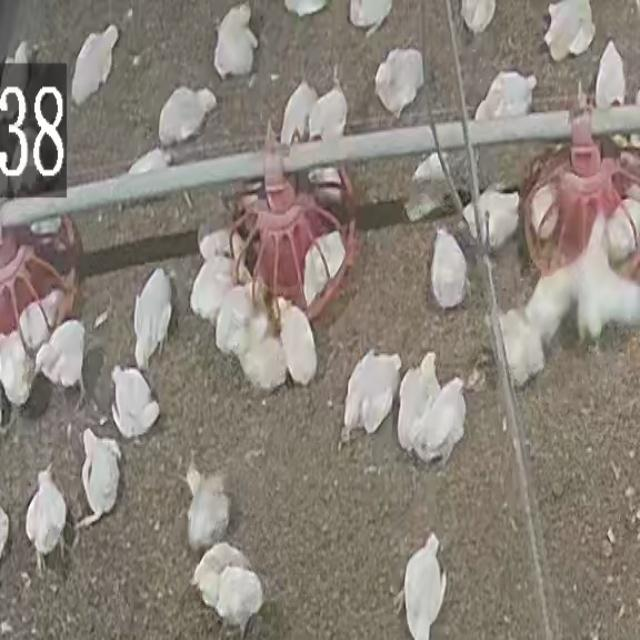chicken: (339, 349, 398, 448), (395, 355, 438, 464), (24, 467, 68, 572), (402, 534, 446, 638), (415, 383, 464, 471), (578, 252, 628, 333), (80, 431, 122, 527), (184, 466, 230, 553), (109, 364, 159, 444), (131, 269, 171, 368), (402, 150, 457, 222), (239, 312, 287, 393), (497, 309, 544, 390), (39, 318, 87, 396), (71, 26, 119, 104), (530, 258, 577, 337), (192, 542, 252, 603), (212, 564, 264, 634), (374, 47, 424, 118), (155, 88, 218, 144), (542, 0, 595, 61), (279, 302, 317, 387), (472, 75, 535, 125), (304, 232, 347, 305), (429, 228, 467, 310), (473, 188, 521, 250), (190, 255, 232, 322), (217, 5, 256, 76), (310, 74, 349, 142), (20, 285, 63, 345), (602, 190, 640, 256), (197, 207, 248, 256), (0, 332, 31, 409), (278, 80, 315, 143), (214, 288, 248, 355), (346, 0, 394, 42), (594, 45, 625, 110), (529, 175, 559, 234), (460, 0, 496, 34)
